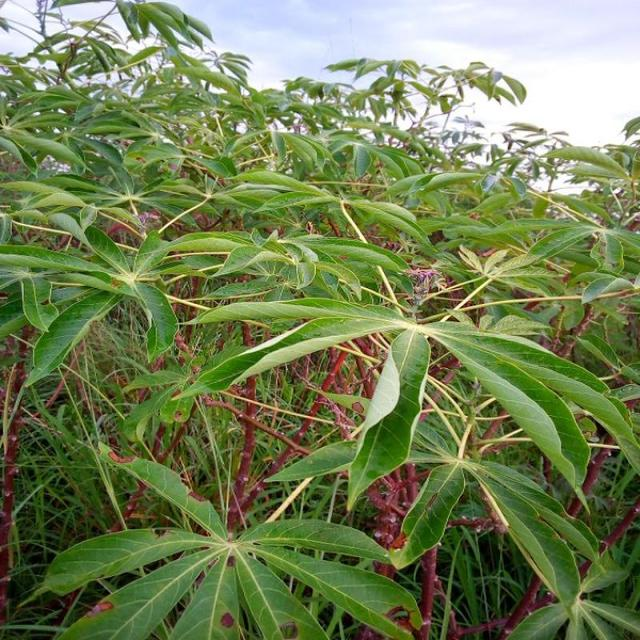cassava leaf: (0, 1, 638, 637), (345, 326, 430, 512)
